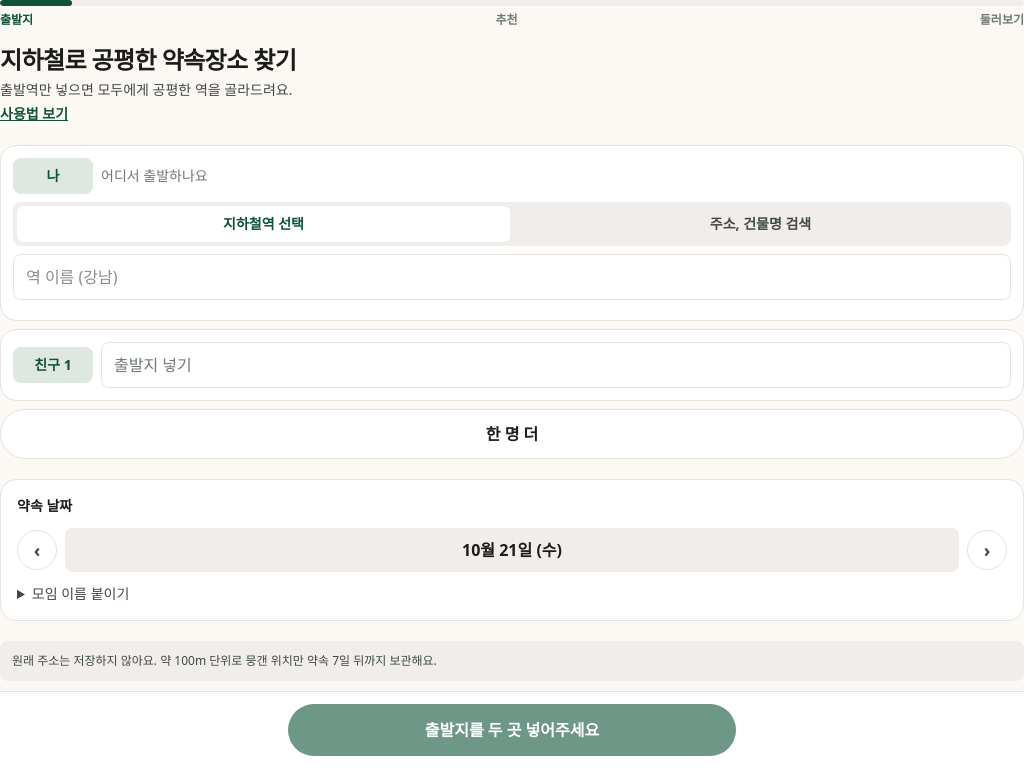
it: 사용법은 저절로 뜨지 않고 사용법 보기를 눌렀을 때만 연다
The width and height of the screenshot is (1024, 768).
Expected: the field named "나 이름" is shown, [13,158,93,194]
Click the button "사용법 보기" at (34, 114), box [0,104,68,124]
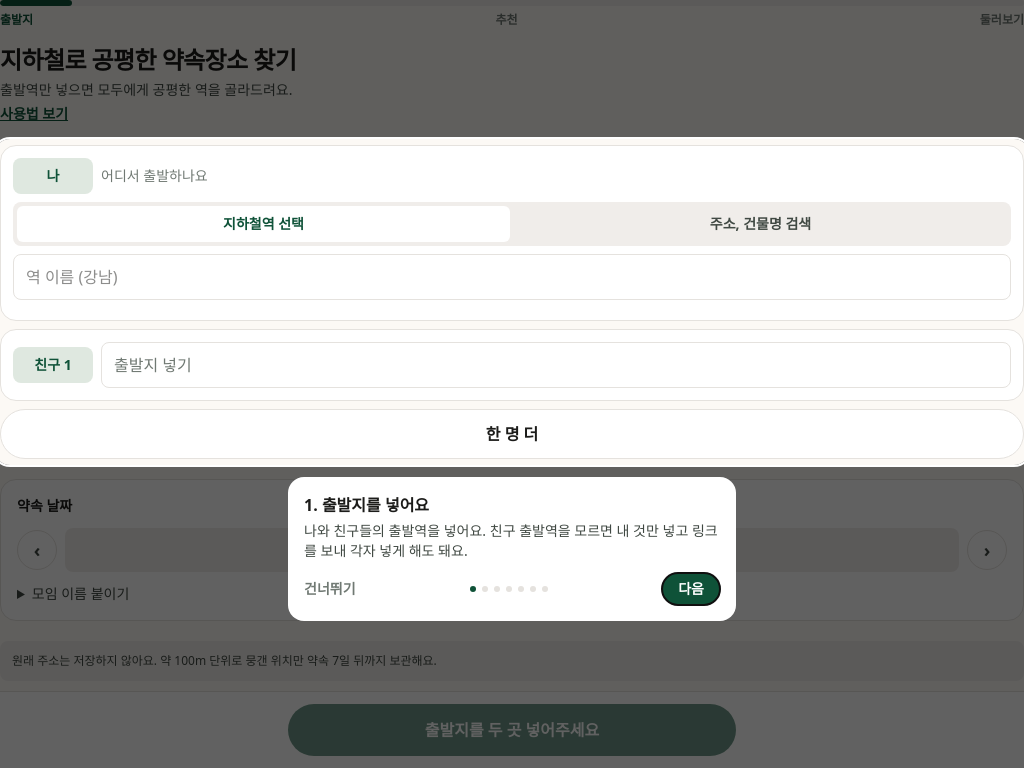
Now the dialog "1. 출발지를 넣어요" is shown, box [288,477,736,621]
Click the button "건너뛰기" at (330, 589), box [304,579,356,599]
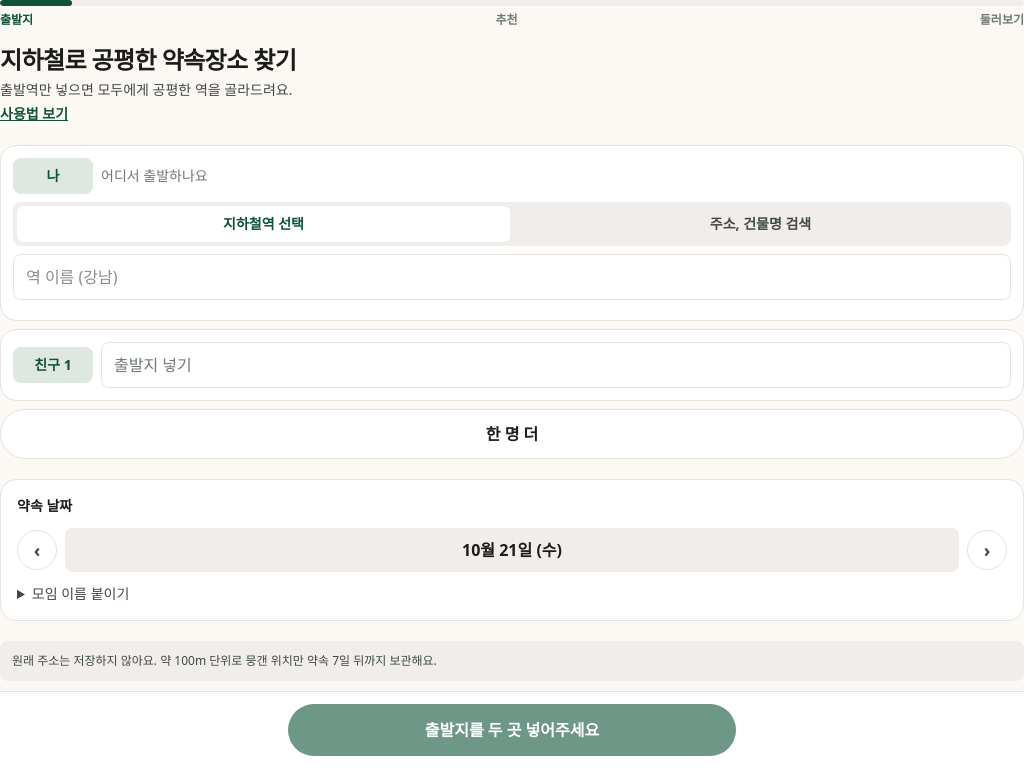
Now the dialog is gone
